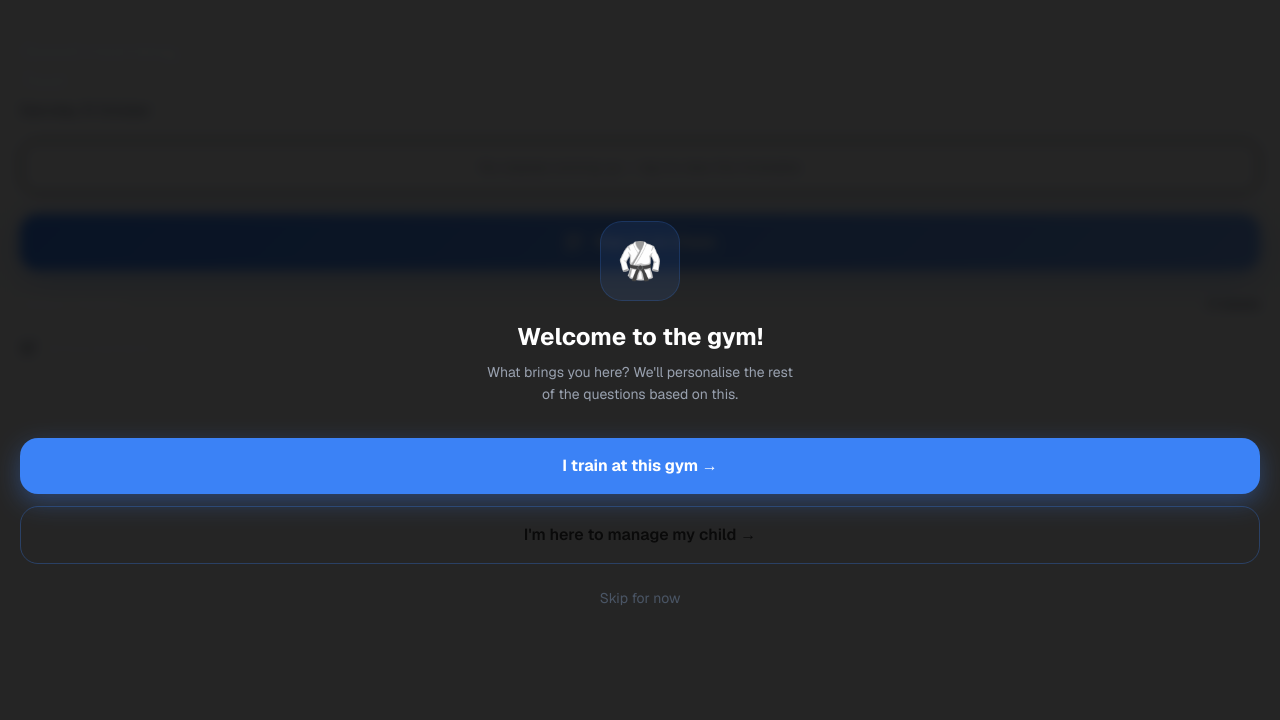
Onboarding parent-only fork (US-1) › training path goes Step 0 -> Step 1 (belt) and renders belt picker
The width and height of the screenshot is (1280, 720).
Click the button with test id "onboarding-i-train": point(640, 466) left=20, top=438, right=1260, bottom=494
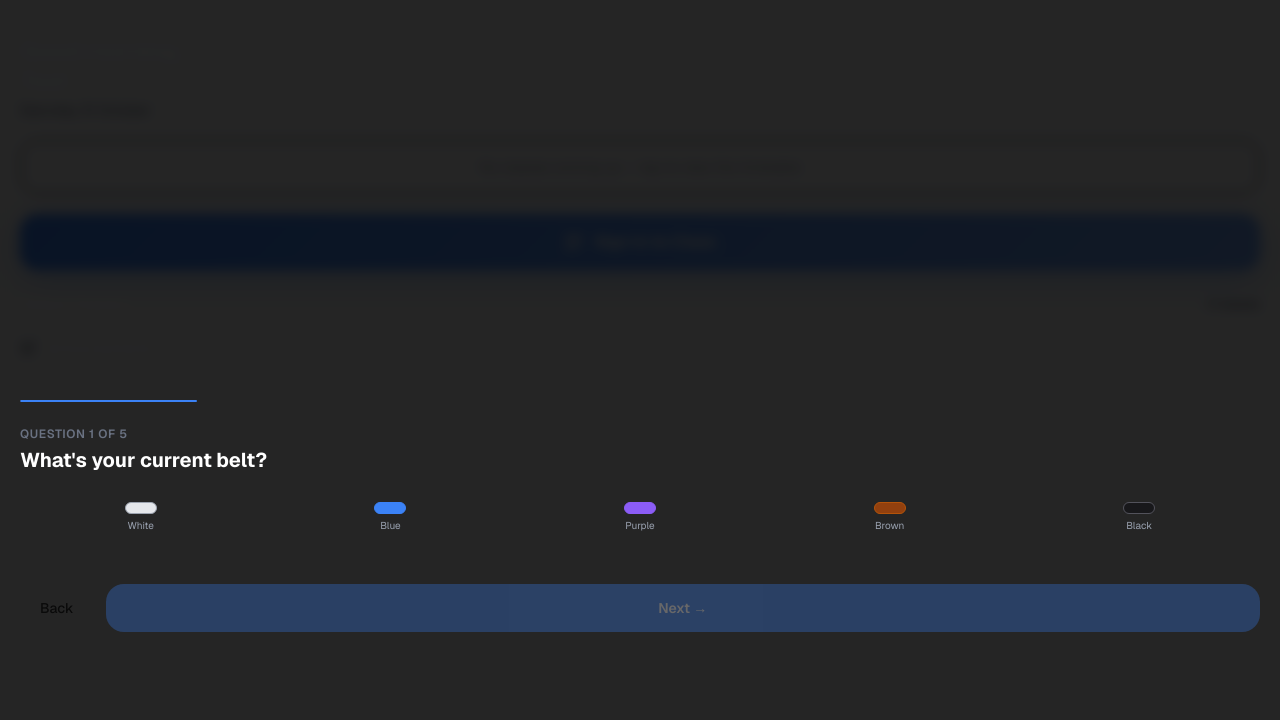
Expected: the heading "What's your current belt?" is shown, left=20, top=446, right=267, bottom=472
